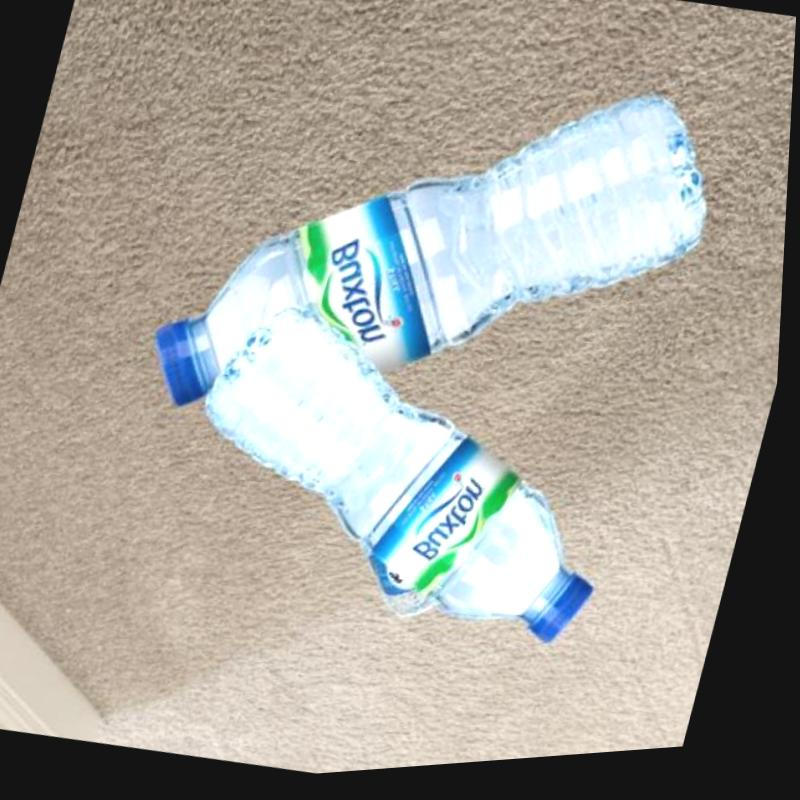botella: (135, 11, 744, 515), (154, 275, 665, 681), (346, 542, 456, 634)
